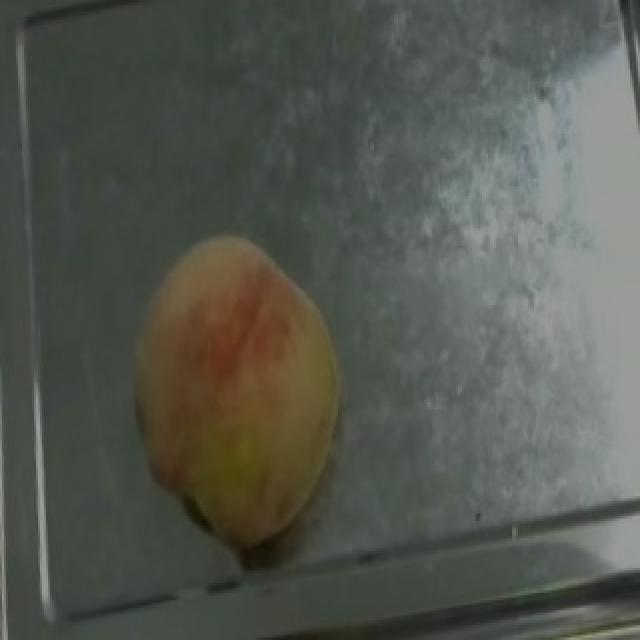Fruit: (114, 226, 362, 558)
